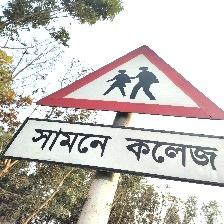College-in-front: (0, 33, 224, 224)
